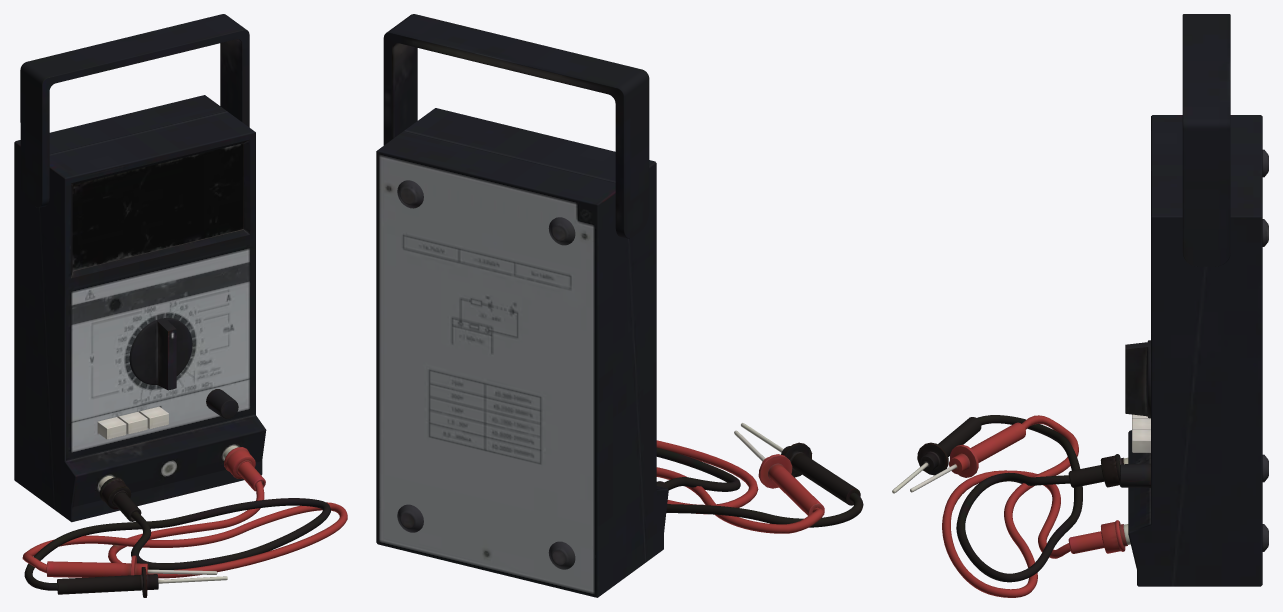
The model's file is retro_multimeter.glb.
The picture shows the model from 3 angles, left to right: view 1: azimuth 30°, elevation 25°; view 2: azimuth 150°, elevation 25°; view 3: azimuth 270°, elevation 25°; orthographic projection. The views are drawn at different scales.
Parts seen in each view (by area): view 1: retro_multimeter_LOD0; view 2: retro_multimeter_LOD0; view 3: retro_multimeter_LOD0.
Boxes of the visible parts, left/top/right/bottom form: retro_multimeter_LOD0: left=14, top=14, right=347, bottom=597; retro_multimeter_LOD0: left=376, top=14, right=863, bottom=597; retro_multimeter_LOD0: left=892, top=14, right=1268, bottom=597.
Size of the model in its own units: 0.216 by 0.2786 by 0.2026.
Materials: 2 (2 with a texture image).
